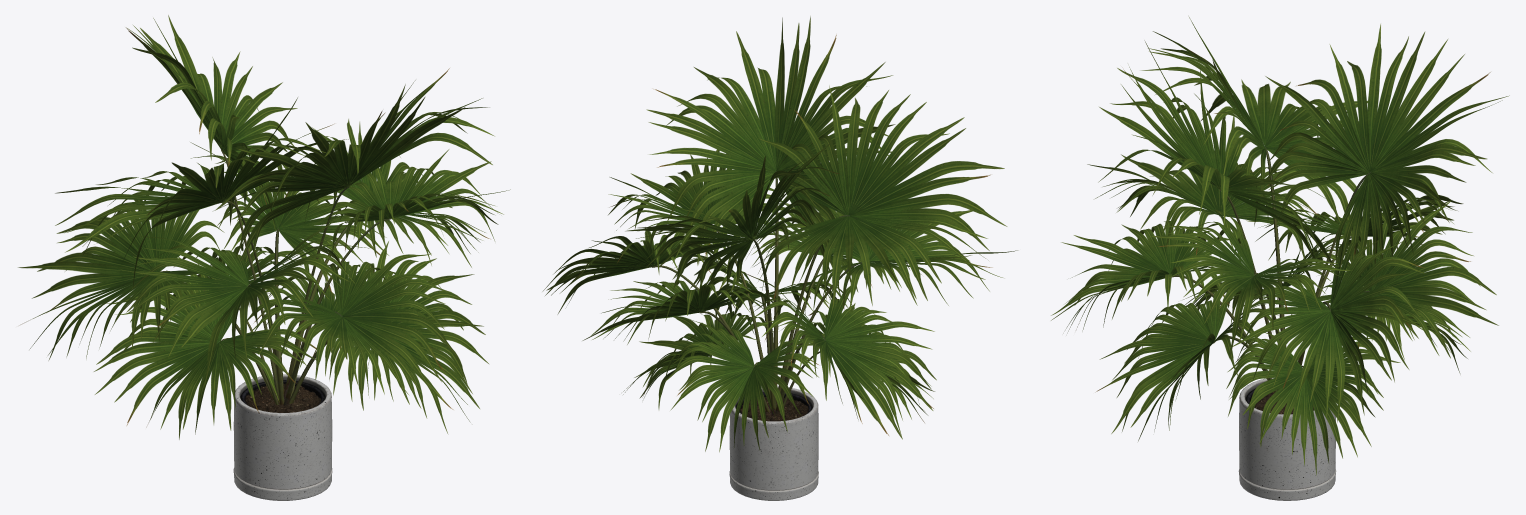
The model's file is free_livistona_chinensis_fan_palm.glb.
The picture shows the model from 3 angles, left to right: view 1: azimuth 30°, elevation 25°; view 2: azimuth 150°, elevation 25°; view 3: azimuth 270°, elevation 25°; orthographic projection. The views are drawn at different scales.
Visible parts, largest first — view 1: LIVISTONA_CHINENSIS, PLANTER_TERRA_BASE; view 2: LIVISTONA_CHINENSIS, PLANTER_TERRA_BASE; view 3: LIVISTONA_CHINENSIS, PLANTER_TERRA_BASE.
Part boxes in pixels (box(x1,y1,x2,y2)): LIVISTONA_CHINENSIS: box(18, 15, 510, 439); PLANTER_TERRA_BASE: box(233, 374, 332, 500); LIVISTONA_CHINENSIS: box(542, 16, 1017, 452); PLANTER_TERRA_BASE: box(729, 386, 818, 500); LIVISTONA_CHINENSIS: box(1051, 17, 1509, 475); PLANTER_TERRA_BASE: box(1238, 377, 1336, 500).
Bounding box in the file's own units: 1.6 × 1.53 × 1.45.
Materials: 2 (2 with a texture image).
